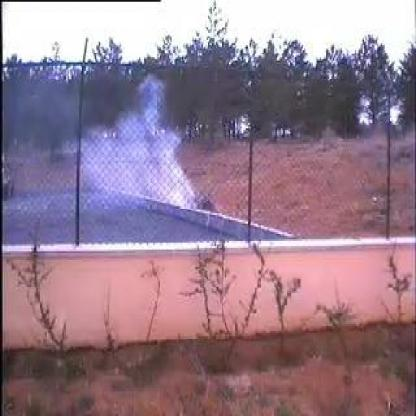-: (82, 79, 199, 210)
